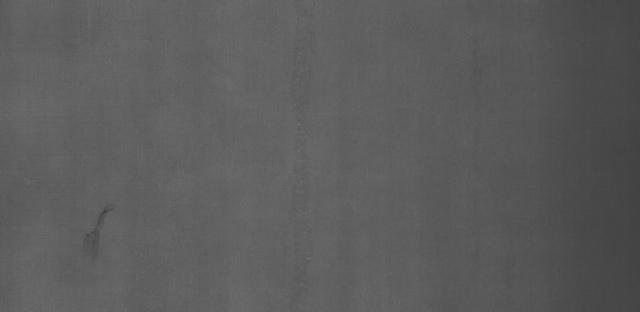water_spot: (68, 184, 129, 264)
